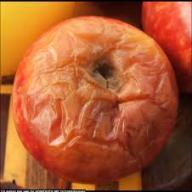apple: (15, 22, 175, 176)
